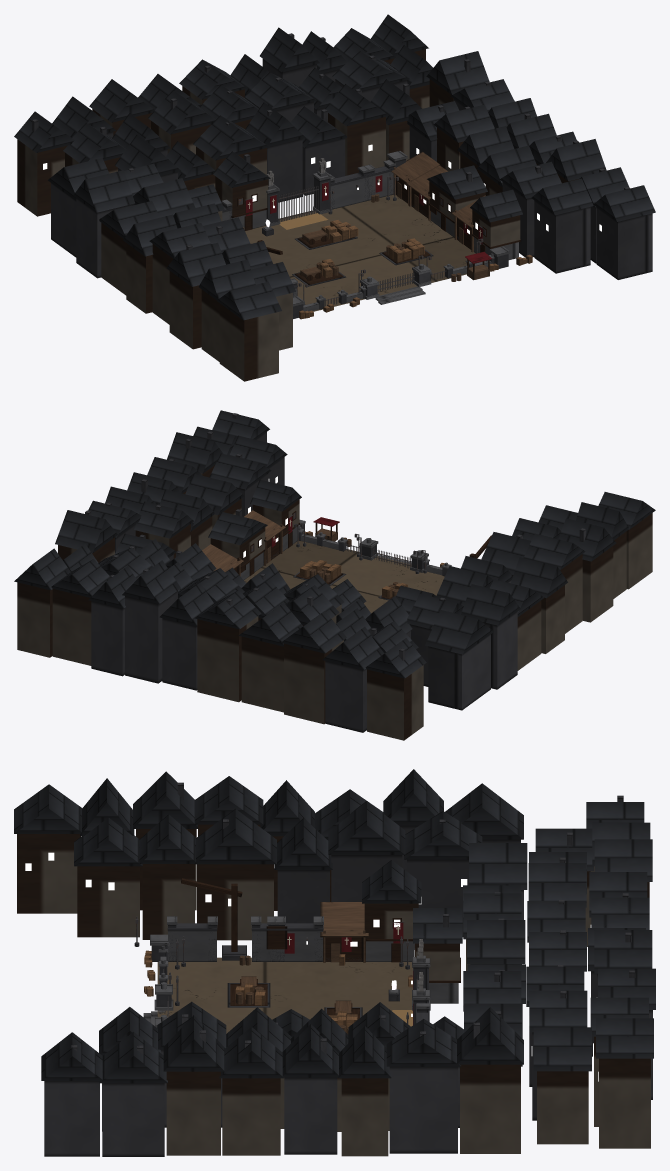
The model's file is town_cargo_02.glb.
The picture shows the model from 3 angles, top to bottom: view 1: azimuth 30°, elevation 25°; view 2: azimuth 150°, elevation 25°; view 3: azimuth 270°, elevation 25°; orthographic projection. The views are drawn at different scales.
Visible parts, largest first — view 1: _MeshInstance3D_1182, _MeshInstance3D_1490, _MeshInstance3D_1605, _MeshInstance3D_1574, _MeshInstance3D_1281, _MeshInstance3D_1240, _MeshInstance3D_1484, _MeshInstance3D_1230, _MeshInstance3D_1232, _MeshInstance3D_1471, _MeshInstance3D_1472, _MeshInstance3D_1276 (+73 smaller); view 2: _MeshInstance3D_1182, _MeshInstance3D_1281, _MeshInstance3D_1469, _MeshInstance3D_1293, _MeshInstance3D_1299, _MeshInstance3D_1288, _MeshInstance3D_1290, _MeshInstance3D_1307, _MeshInstance3D_1285, _MeshInstance3D_1311, _MeshInstance3D_1296, _MeshInstance3D_1303 (+65 smaller); view 3: _MeshInstance3D_1182, _MeshInstance3D_1582, _MeshInstance3D_1578, _MeshInstance3D_1311, _MeshInstance3D_1490, _MeshInstance3D_1596, _MeshInstance3D_1601, _MeshInstance3D_1593, _MeshInstance3D_1458, _MeshInstance3D_1465, _MeshInstance3D_1605, _MeshInstance3D_1588 (+68 smaller).
Boxes of the visible parts, x1,y1,x2,y2 form: _MeshInstance3D_1182: [245, 194, 484, 311]; _MeshInstance3D_1490: [219, 303, 278, 381]; _MeshInstance3D_1605: [596, 207, 652, 279]; _MeshInstance3D_1574: [534, 200, 590, 273]; _MeshInstance3D_1281: [17, 139, 67, 216]; _MeshInstance3D_1240: [328, 113, 385, 175]; _MeshInstance3D_1484: [169, 271, 201, 349]; _MeshInstance3D_1230: [193, 115, 269, 160]; _MeshInstance3D_1232: [267, 139, 302, 202]; _MeshInstance3D_1471: [76, 198, 131, 278]; _MeshInstance3D_1472: [73, 170, 134, 212]; _MeshInstance3D_1276: [332, 51, 409, 90]; _MeshInstance3D_1182: [244, 541, 444, 613]; _MeshInstance3D_1281: [367, 665, 423, 740]; _MeshInstance3D_1469: [428, 634, 490, 710]; _MeshInstance3D_1293: [197, 616, 258, 702]; _MeshInstance3D_1299: [125, 591, 177, 683]; _MeshInstance3D_1288: [284, 640, 343, 724]; _MeshInstance3D_1290: [241, 636, 283, 712]; _MeshInstance3D_1307: [52, 589, 91, 665]; _MeshInstance3D_1285: [325, 661, 366, 732]; _MeshInstance3D_1311: [17, 582, 52, 657]; _MeshInstance3D_1296: [162, 618, 197, 690]; _MeshInstance3D_1303: [91, 601, 124, 676]; _MeshInstance3D_1182: [157, 957, 412, 1033]; _MeshInstance3D_1582: [389, 1066, 457, 1153]; _MeshInstance3D_1578: [460, 1064, 520, 1153]; _MeshInstance3D_1311: [599, 1058, 650, 1148]; _MeshInstance3D_1490: [17, 834, 80, 913]; _MeshInstance3D_1596: [166, 1071, 220, 1155]; _MeshInstance3D_1601: [102, 1083, 164, 1156]; _MeshInstance3D_1593: [222, 1078, 280, 1155]; _MeshInstance3D_1458: [197, 864, 273, 940]; _MeshInstance3D_1465: [77, 866, 139, 937]; _MeshInstance3D_1605: [44, 1081, 99, 1156]; _MeshInstance3D_1588: [284, 1077, 337, 1154].
Size of what is drawn, in the model's own units: 61.86 by 15.32 by 61.88.
Materials: 16 (11 with a texture image).
